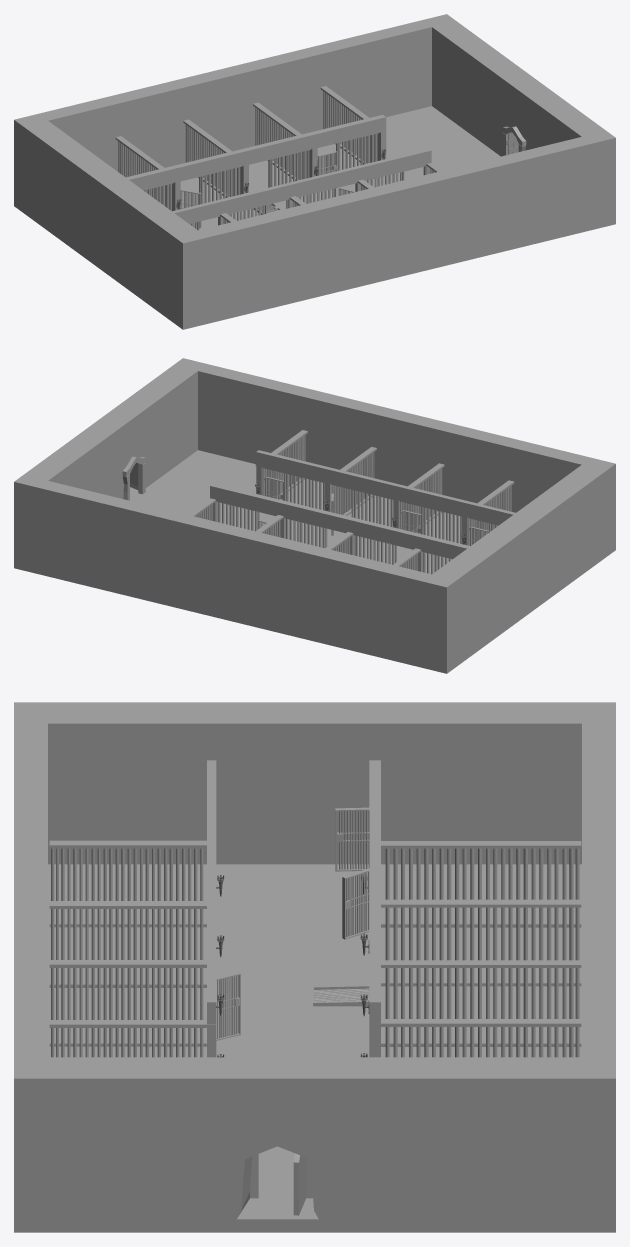
File: NewSala01.fbx
The picture shows the model from 3 angles, top to bottom: view 1: azimuth 30°, elevation 25°; view 2: azimuth 150°, elevation 25°; view 3: azimuth 270°, elevation 25°; orthographic projection. The views are drawn at different scales.
Parts seen in each view (by area): view 1: Nivel7:Nivel5:Sala07; view 2: Nivel7:Nivel5:Sala07; view 3: Nivel7:Nivel5:Sala07.
Boxes of the visible parts, x1,y1,x2,y2 form: Nivel7:Nivel5:Sala07: (14,14,615,329); Nivel7:Nivel5:Sala07: (14,358,615,673); Nivel7:Nivel5:Sala07: (14,702,615,1232).
Bounding box in the file's own units: 39.54 × 7.54 × 26.74.
